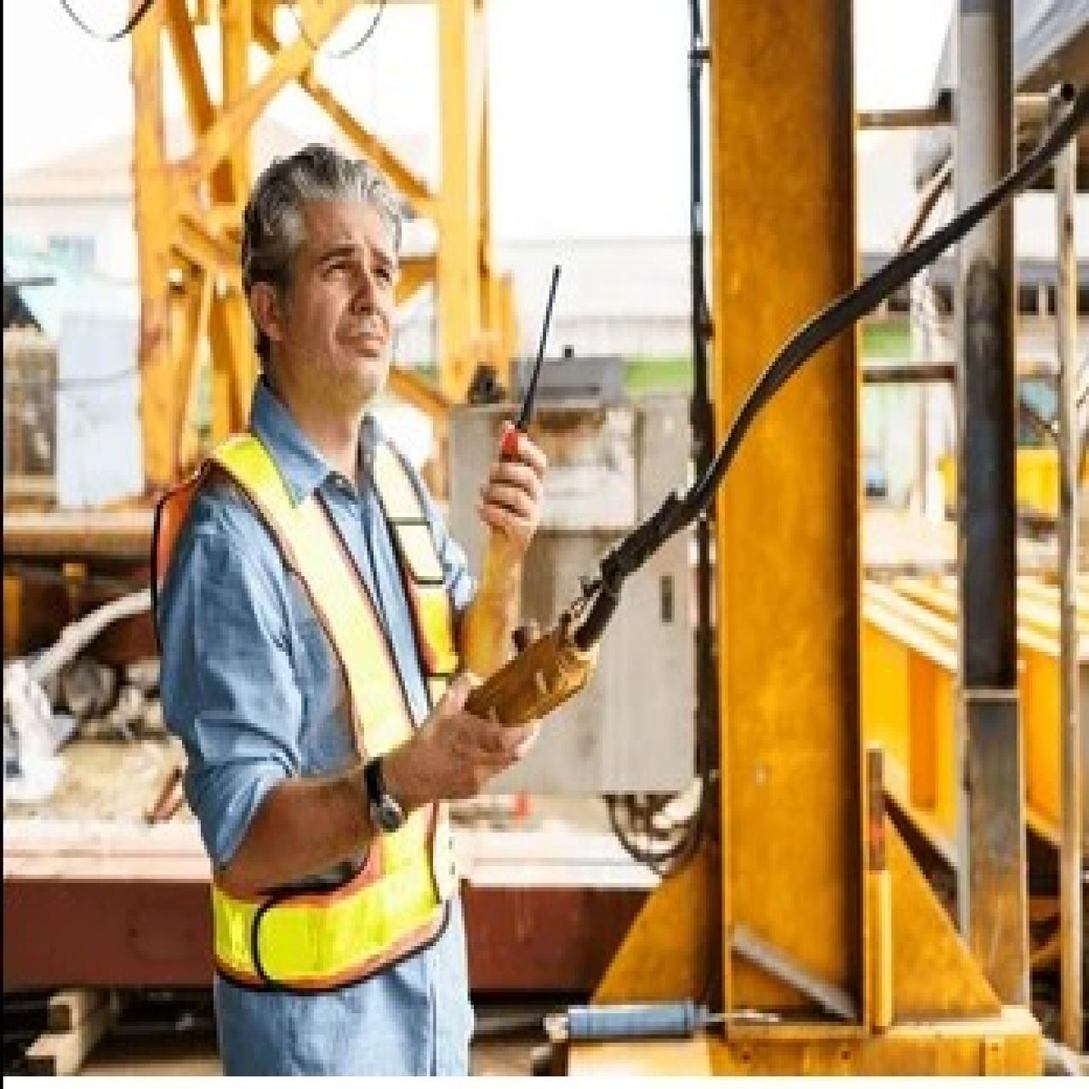Person: (125, 92, 597, 1089)
Safety_Vest: (152, 421, 468, 986)
